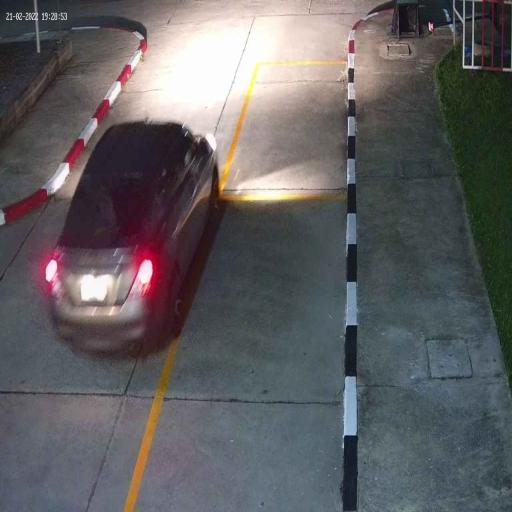car: (48, 119, 222, 352)
